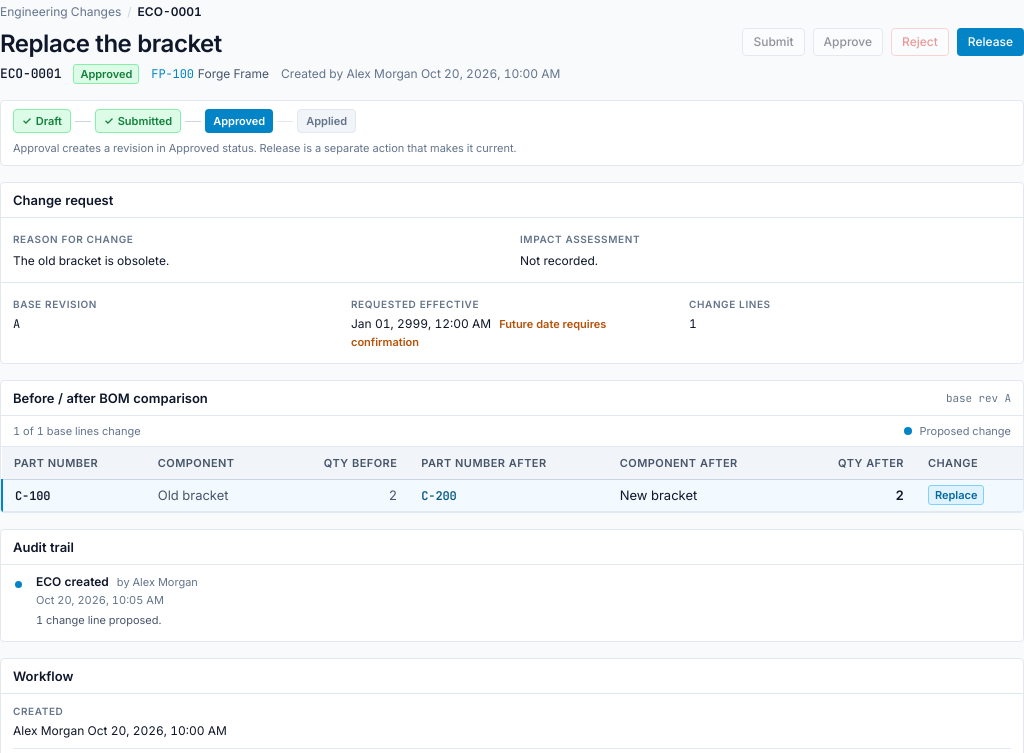
Test: EcoDetail › asks for immediate effectivity when releasing a future-dated ECO
Expected: the heading "Replace the bracket" is shown, [0,29,222,58]
Click the button "Release". click: (990, 42)
box: [957,28,1023,56]
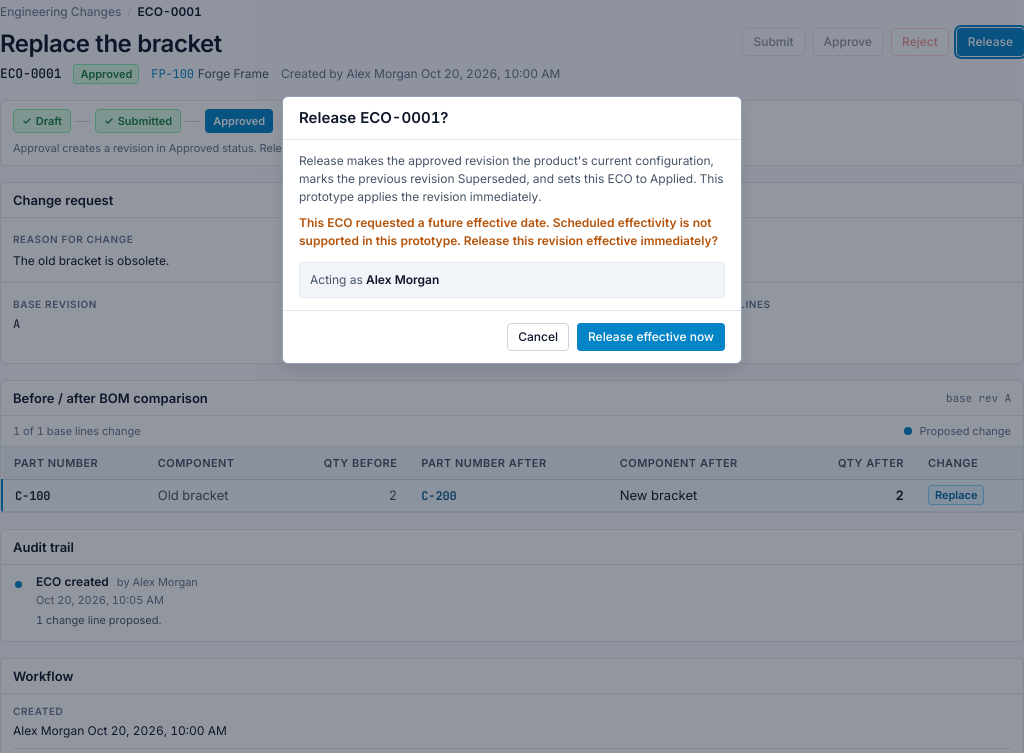
Now the text "Scheduled effectivity is not supported in this prototype" is shown, box [299,215,718,248]
Click the button "Release effective now". click: (651, 337)
box: [577,323,725,351]
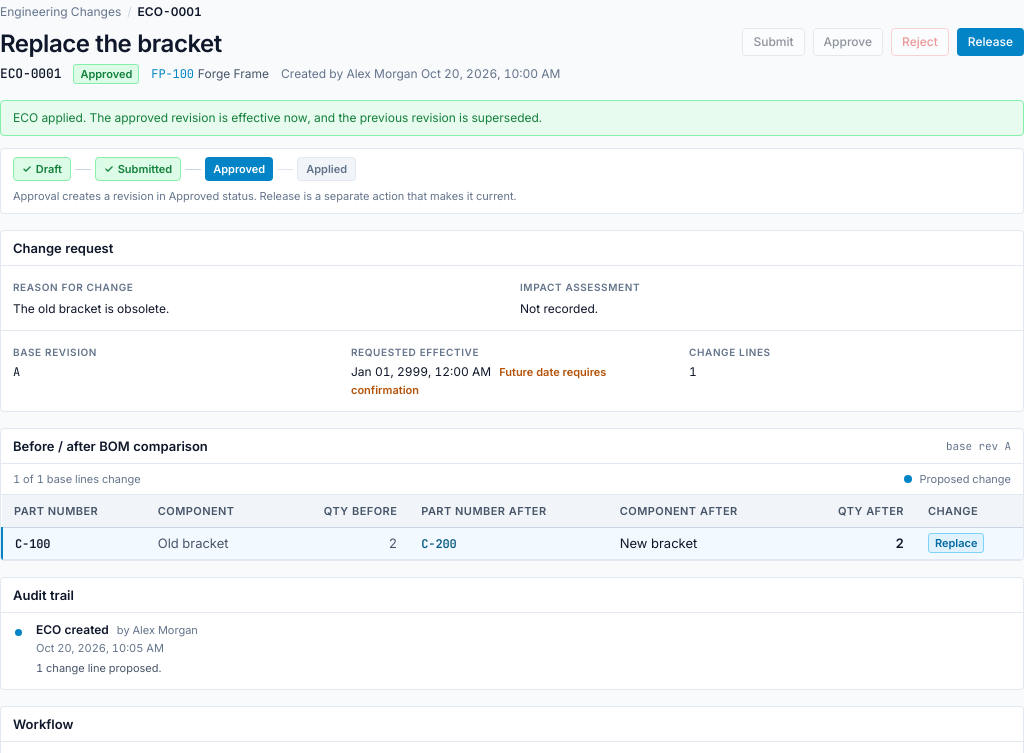
Now the text "ECO applied" is shown, box [13,110,542,125]
